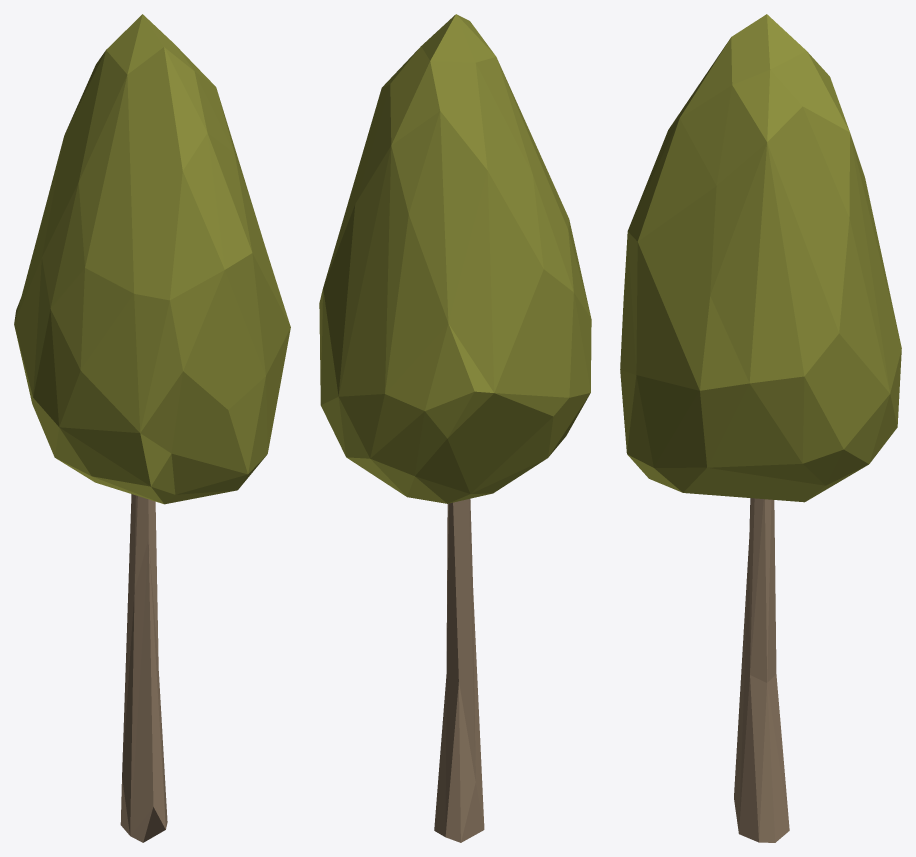
File: fantasy_tree_1.fbx
3 views of the same model, side by side, from view 1: azimuth 30°, elevation 25°; view 2: azimuth 150°, elevation 25°; view 3: azimuth 270°, elevation 25° (orthographic).
Visible parts, largest first — view 1: Cylinder.015; view 2: Cylinder.015; view 3: Cylinder.015.
Boxes of the visible parts, bbox=[...] form: Cylinder.015: bbox=[14, 14, 290, 842]; Cylinder.015: bbox=[319, 14, 591, 842]; Cylinder.015: bbox=[620, 14, 901, 842].
Size of the model in its own units: 155 by 517 by 160.
